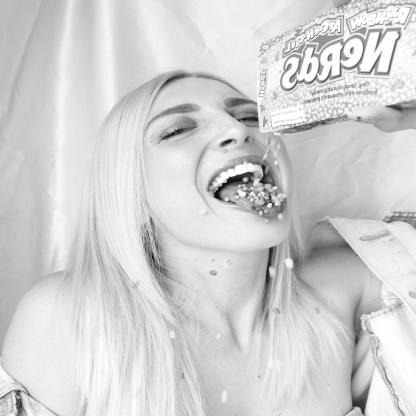Eye: (152, 116, 200, 146), (230, 109, 260, 125)
Mouth: (203, 157, 278, 214)
Nose: (209, 109, 254, 153)
